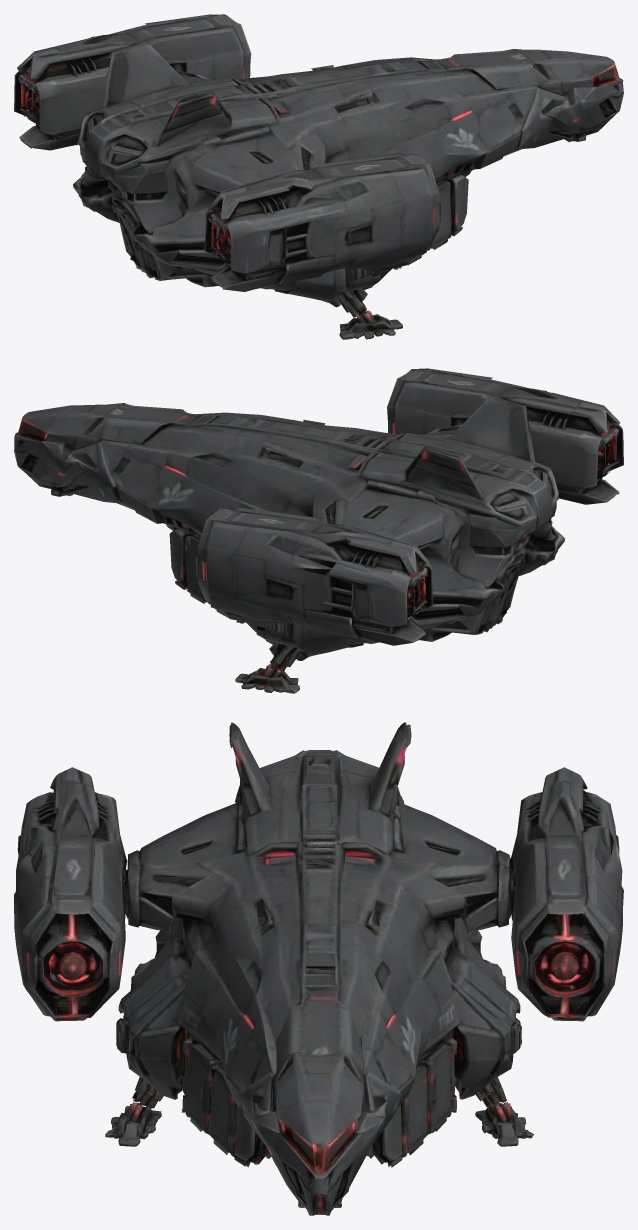
Rendered from dropship.glb.
3 views of the same model, one above another, from view 1: azimuth 30°, elevation 25°; view 2: azimuth 150°, elevation 25°; view 3: azimuth 270°, elevation 25° (orthographic). The views are drawn at different scales.
Visible parts, largest first — view 1: geometry_0; view 2: geometry_0; view 3: geometry_0.
Boxes of the visible parts, x1=… form: geometry_0: x1=14, y1=14, x2=623, y2=339; geometry_0: x1=14, y1=368, x2=623, y2=693; geometry_0: x1=14, y1=722, x2=623, y2=1215.
Size of the model in its own units: 0.9497 by 0.4131 by 0.73.
Materials: 1 (1 with a texture image).
